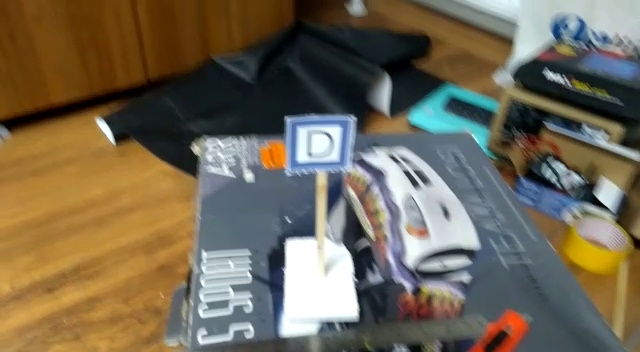durak: (288, 117, 352, 169)
